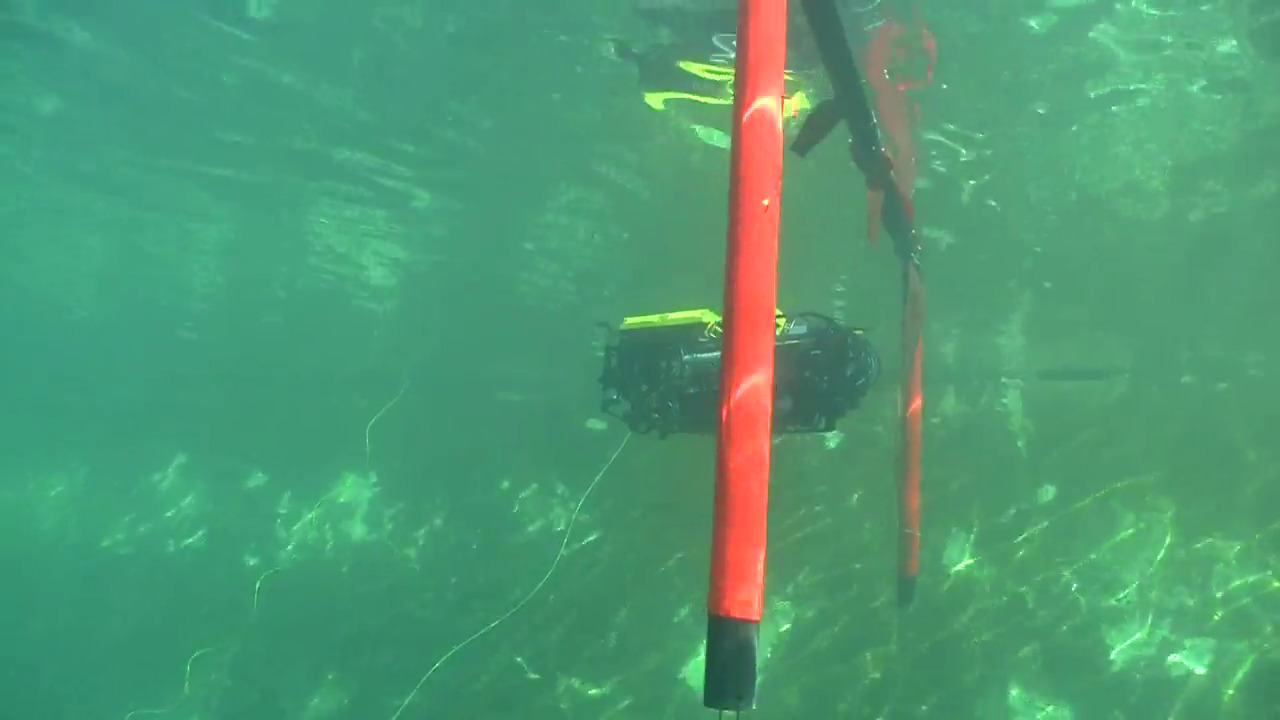gate: (703, 1, 942, 711)
